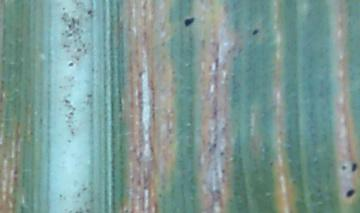tarspot: (182, 15, 195, 27), (343, 187, 357, 198), (249, 27, 261, 36), (65, 60, 76, 68), (350, 161, 357, 173), (218, 149, 226, 158), (341, 163, 348, 172), (85, 8, 93, 15)
